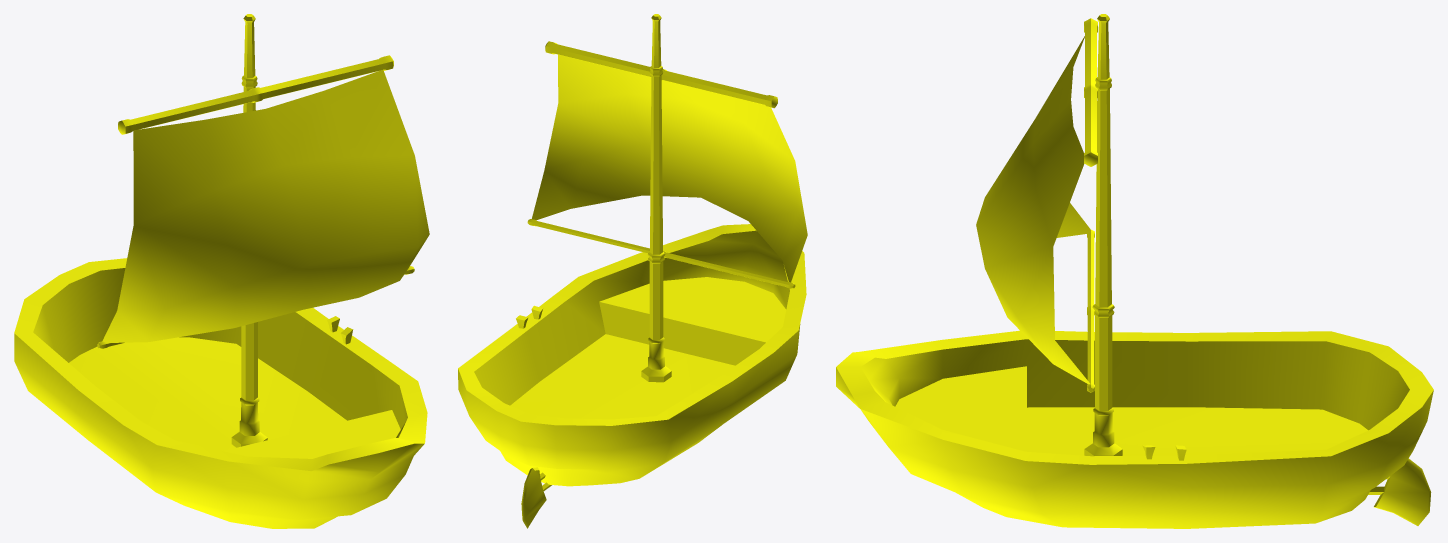
The model's file is Boat.glb.
3 views of the same model, side by side, from view 1: azimuth 30°, elevation 25°; view 2: azimuth 150°, elevation 25°; view 3: azimuth 270°, elevation 25° (orthographic). The views are drawn at different scales.
Parts seen in each view (by area): view 1: Boat_1; view 2: Boat_1; view 3: Boat_1.
Part boxes in pixels (left/top/right/bottom): Boat_1: left=14, top=14, right=429, bottom=528; Boat_1: left=458, top=14, right=807, bottom=528; Boat_1: left=836, top=14, right=1433, bottom=528.
Bounding box in the file's own units: 1.55 × 2.33 × 2.48.
Materials: 1 (1 with a texture image).
